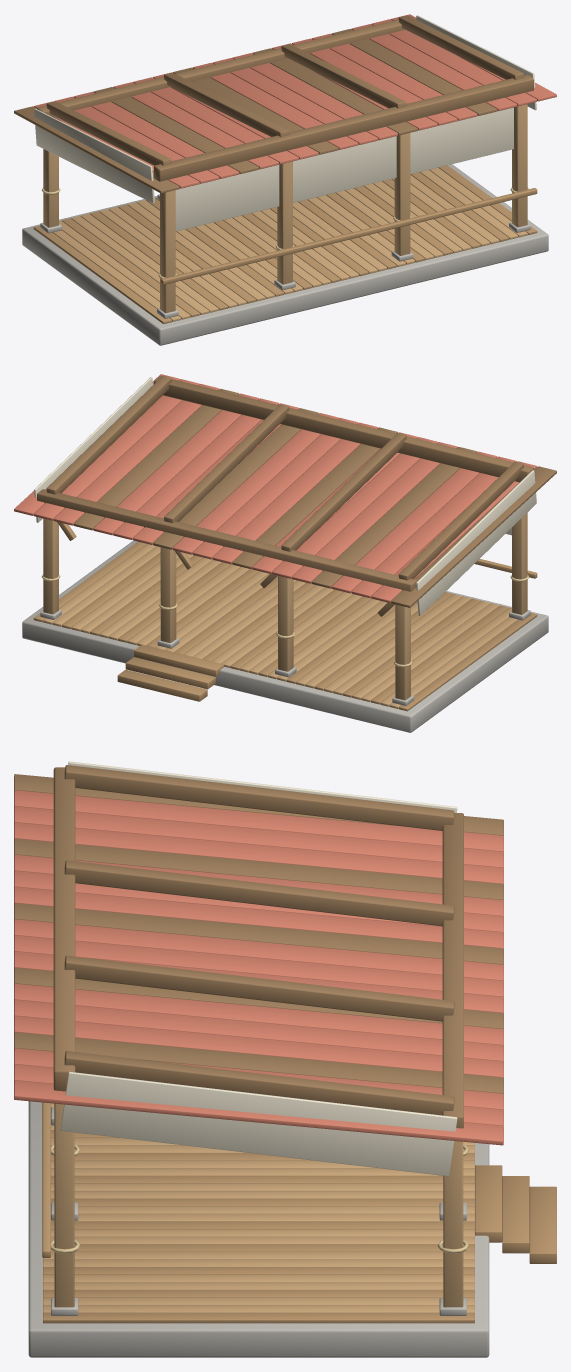
Rendered from pavilhao_treino.glb.
3 renders of one model, top to bottom at view 1: azimuth 30°, elevation 25°; view 2: azimuth 150°, elevation 25°; view 3: azimuth 270°, elevation 25°, orthographic. The views are drawn at different scales.
Parts seen in each view (by area): view 1: pavilhao_treino; view 2: pavilhao_treino; view 3: pavilhao_treino.
Part boxes in pixels (x1,y1,x2,y2): pavilhao_treino: [14, 14, 556, 345]; pavilhao_treino: [14, 374, 556, 732]; pavilhao_treino: [14, 761, 556, 1357].
Size of the model in its own units: 10.58 by 4.44 by 7.54.
